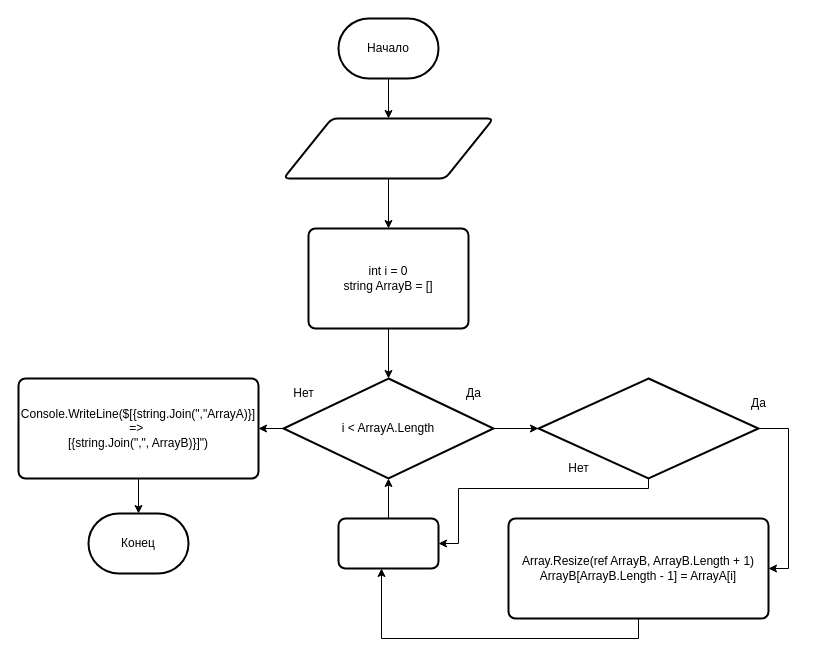
The diagram is 814 pixels wide and 664 high, and some of its shapes have lost their labels. The box of each missing label's shape, as (x1, y1, x2, y2) in pixels:
ArrayA[i].Lenth <= 3: (537, 377, 759, 479)
i = i +1: (337, 517, 439, 569)
stringArrayA = [....]: (282, 117, 494, 179)
